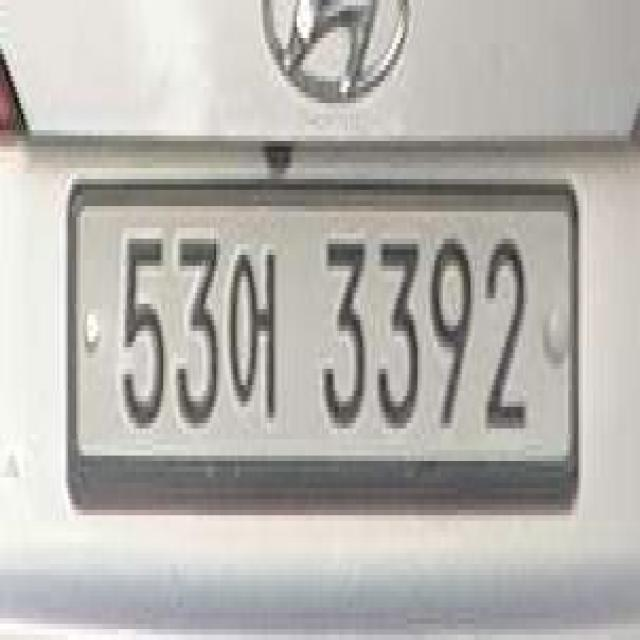2: (480, 238, 528, 450)
3: (317, 218, 371, 446), (168, 223, 222, 440), (378, 228, 424, 441)
5: (119, 222, 164, 439)
9: (432, 228, 474, 452)
eo: (224, 238, 282, 437)
license_plate: (55, 165, 589, 522)
